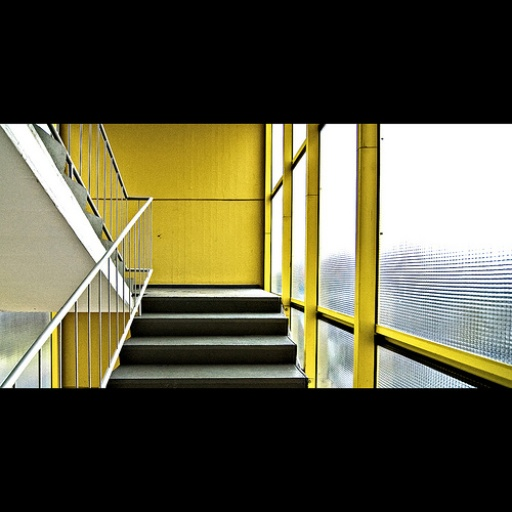Stairs: (109, 287, 307, 387)
